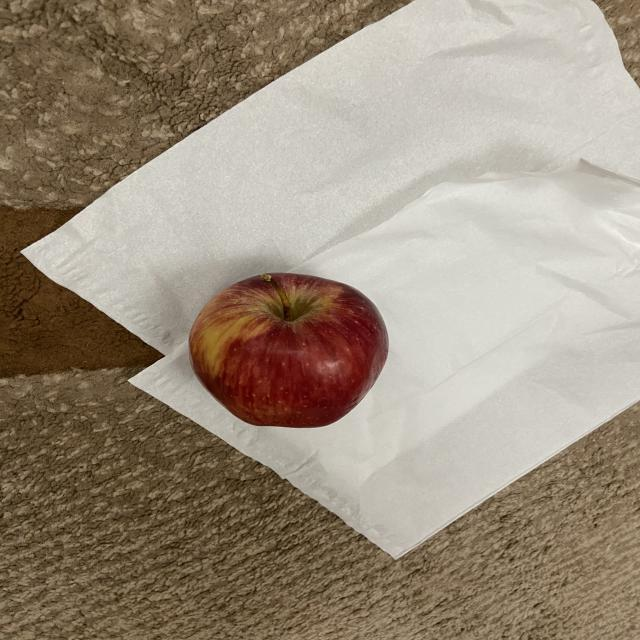apple: (183, 263, 396, 432)
